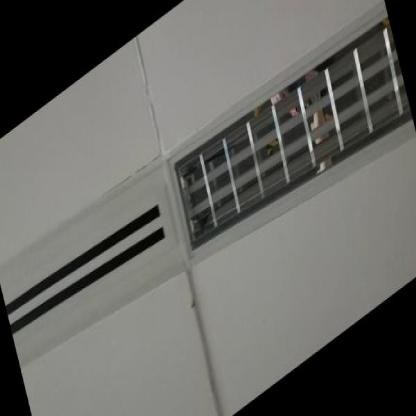light_off: (151, 0, 416, 330)
